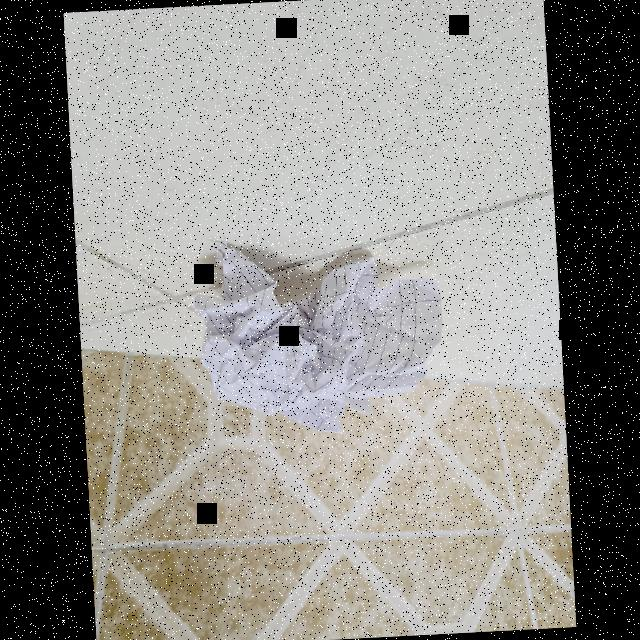scrap_paper: (196, 239, 452, 436)
